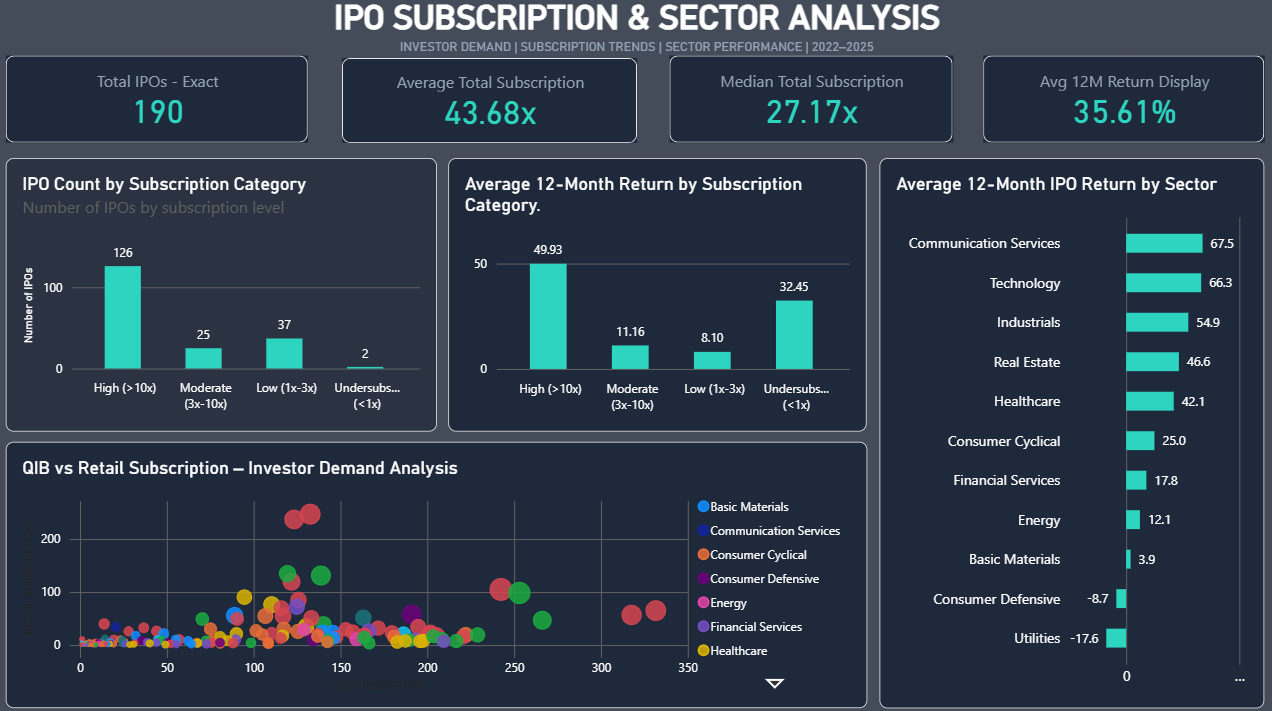

The page's visual inventory and layout, read from the dashboard file:
{"tool":"powerbi","page":{"name":"Subscription & Sector Analysis","canvas":[1920,1080],"ordinal":2},"visuals":[{"type":"clusteredBarChart","title":"IPO Count by Subscription Category","fields":{"Category":["ipo_master_analysis.Subscription Category"],"Y":["Count(ipo_master_analysis.SYMBOL)"]},"box":[0,0,960,530],"z":0},{"type":"clusteredColumnChart","title":"Average 12-Month Return by Subscription Category.","fields":{"Category":["ipo_master_analysis.Subscription Category"],"Y":["ipo_master_analysis.Avg 12M Return"]},"box":[960,0,962.5,530],"z":1000},{"type":"clusteredBarChart","fields":{"Category":["ipo_master_analysis.SECTOR"],"Y":["ipo_master_analysis.Avg 12M Return"]},"box":[0,530,960,550],"z":1001},{"type":"scatterChart","title":"QIB vs Retail IPO Subscription","fields":{"Series":["ipo_master_analysis.SYMBOL"],"X":["ipo_master_analysis.QIB SUBSCRIPTION"],"Y":["Sum(ipo_master_analysis.RETAIL SUBSCRIPTION)"]},"box":[960,530,960,550],"z":1002}]}

Visuals, with their boxes in screenshot pixels (x1, y1, x2, y2), scaled from the page's 1920x1080 canvas onto the 1272x711 screenshot:
"IPO Count by Subscription Category" clusteredBarChart: l=0, t=0, r=636, b=349
"Average 12-Month Return by Subscription Category." clusteredColumnChart: l=636, t=0, r=1271, b=349
clusteredBarChart - ipo_master_analysis.SECTOR x ipo_master_analysis.Avg 12M Return: l=0, t=349, r=636, b=710
"QIB vs Retail IPO Subscription" scatterChart: l=636, t=349, r=1271, b=710
